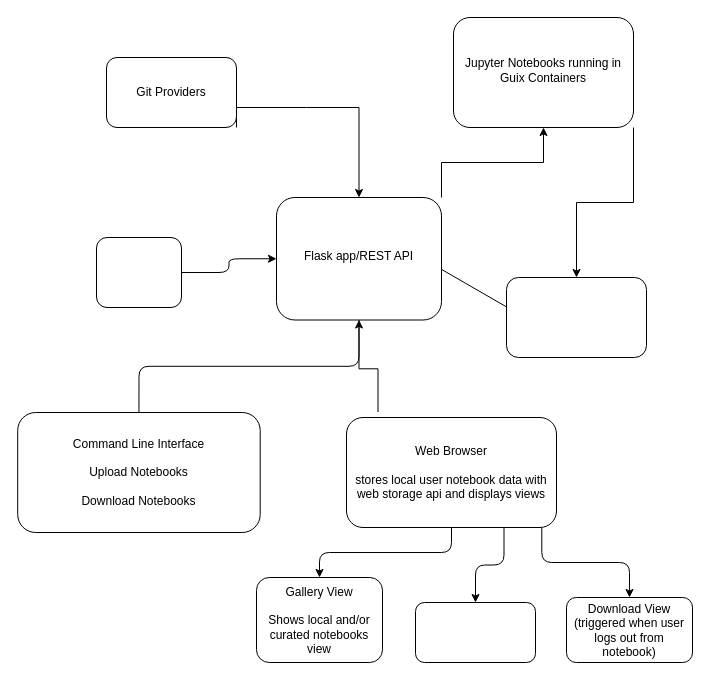
Image size: 710x680. Some labels were removed from this diagram. Here are the shapes that lost their labels. From the top down, the box of each, then its label:
(96, 236, 182, 308): tinydb (json) stores curated notebooks data
(506, 276, 646, 358): Filesystem
(414, 602, 536, 662): Launcher View
